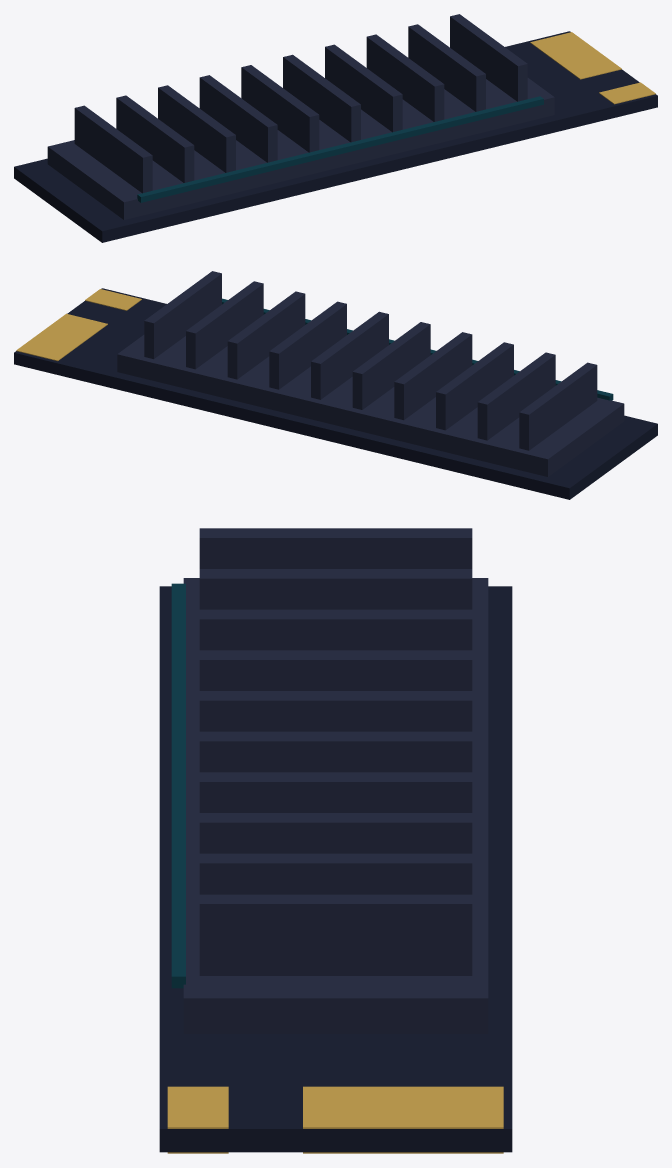
File: ssd-nvme.glb
3 views of the same model, one above another, from view 1: azimuth 30°, elevation 25°; view 2: azimuth 150°, elevation 25°; view 3: azimuth 270°, elevation 25° (orthographic). The views are drawn at different scales.
Parts seen in each view (by area): view 1: heatsink_fins, pcb, heatsink_base, accent_line, edge_connector; view 2: heatsink_fins, heatsink_base, pcb, edge_connector, accent_line; view 3: heatsink_fins, pcb, heatsink_base, edge_connector, accent_line.
Part boxes in pixels (bbox=[...]): heatsink_fins: bbox=[74, 14, 527, 193]; pcb: bbox=[14, 31, 657, 242]; heatsink_base: bbox=[47, 78, 554, 219]; accent_line: bbox=[137, 96, 543, 202]; edge_connector: bbox=[530, 32, 655, 104]; heatsink_fins: bbox=[144, 271, 597, 450]; heatsink_base: bbox=[117, 335, 624, 476]; pcb: bbox=[14, 288, 657, 499]; edge_connector: bbox=[16, 289, 141, 361]; accent_line: bbox=[222, 298, 613, 400]; heatsink_fins: bbox=[199, 528, 472, 975]; pcb: bbox=[159, 586, 512, 1152]; heatsink_base: bbox=[183, 578, 488, 1033]; edge_connector: bbox=[167, 1086, 503, 1153]; accent_line: bbox=[171, 583, 185, 988].
Bounding box in the file's own units: 80 × 9.1 × 22.
